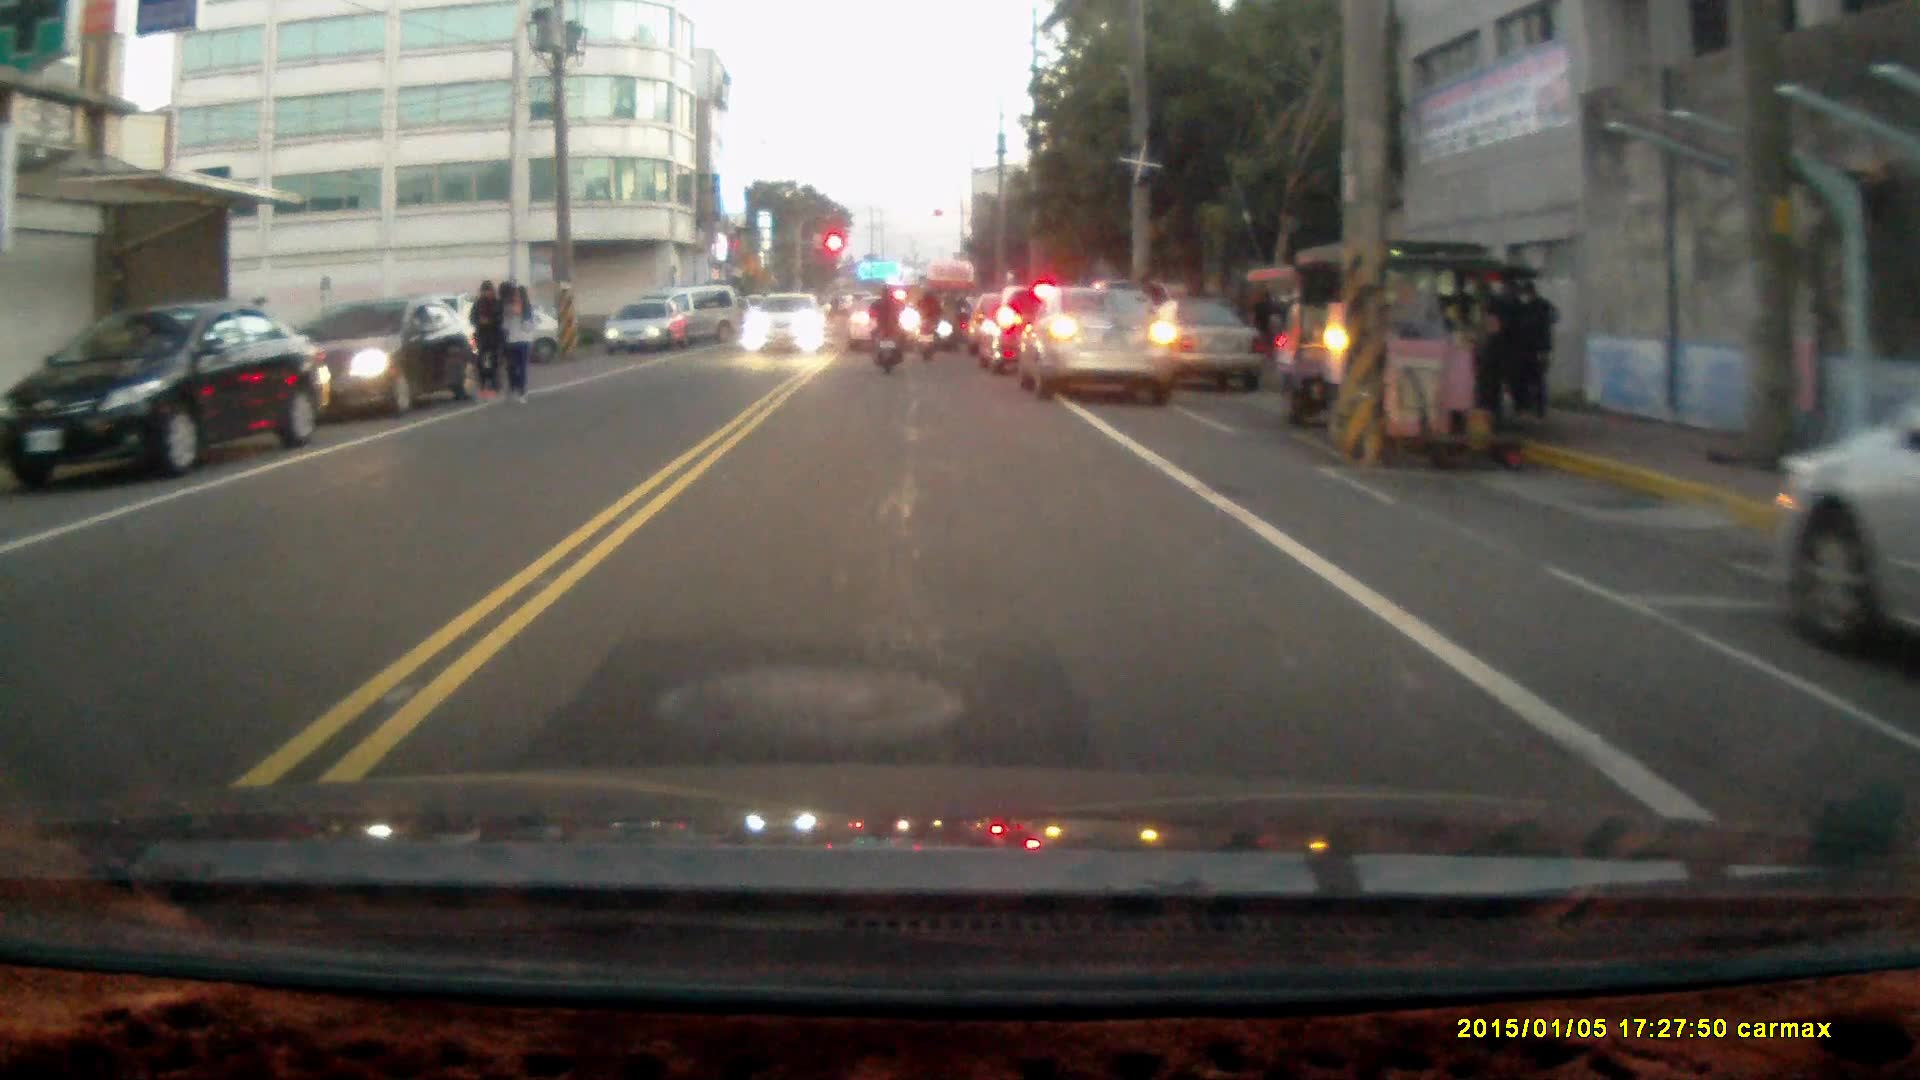pedestrian: (1507, 279, 1560, 427), (465, 277, 505, 406), (501, 283, 533, 406), (1245, 286, 1279, 359)
rider: (867, 281, 905, 372), (910, 281, 943, 364)
vehicle: (14, 298, 325, 489), (1267, 241, 1541, 451), (297, 297, 481, 427), (1023, 282, 1178, 401), (744, 293, 830, 355), (849, 295, 927, 355), (608, 302, 691, 357)
